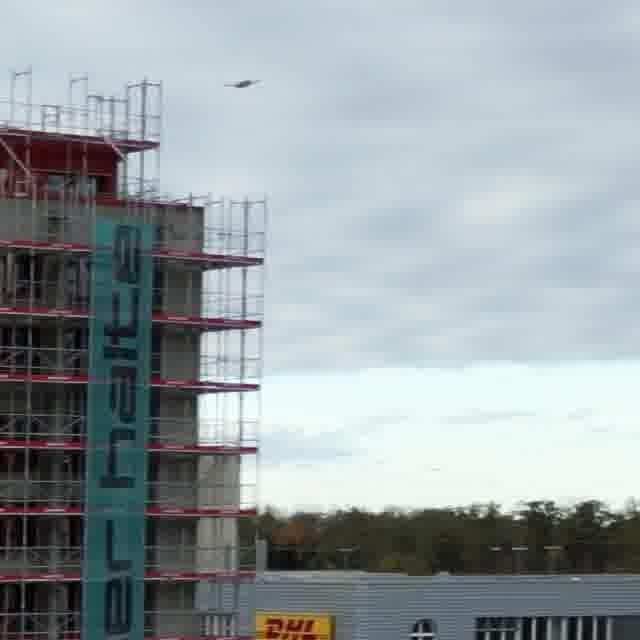Drohne: (225, 80, 259, 88)
